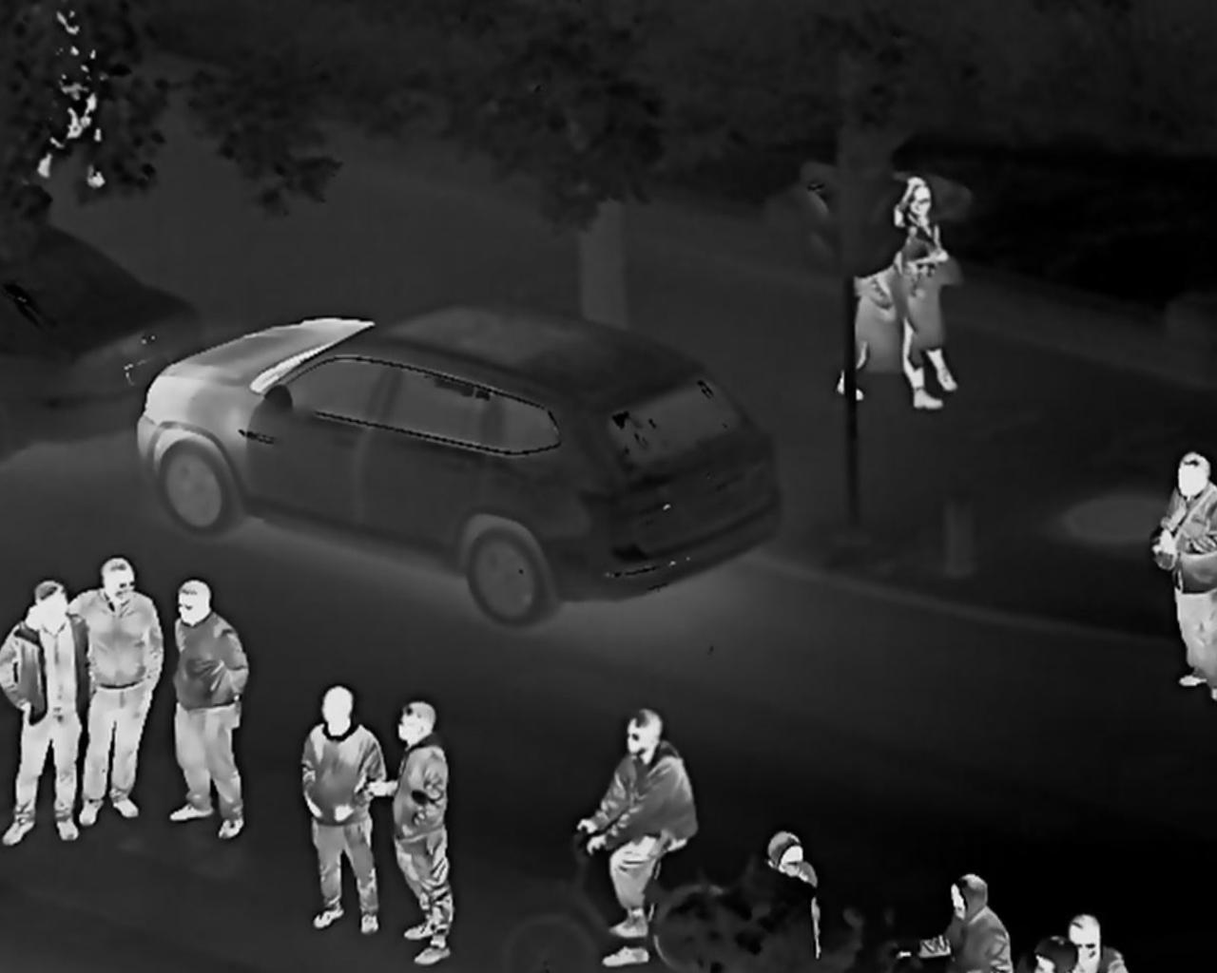person: (165, 566, 276, 836), (388, 690, 490, 973), (598, 717, 695, 973), (808, 170, 904, 395), (301, 666, 372, 922), (88, 549, 149, 844), (885, 852, 1011, 973), (900, 171, 958, 413), (748, 813, 836, 970), (1160, 441, 1217, 658), (1029, 899, 1108, 973)
